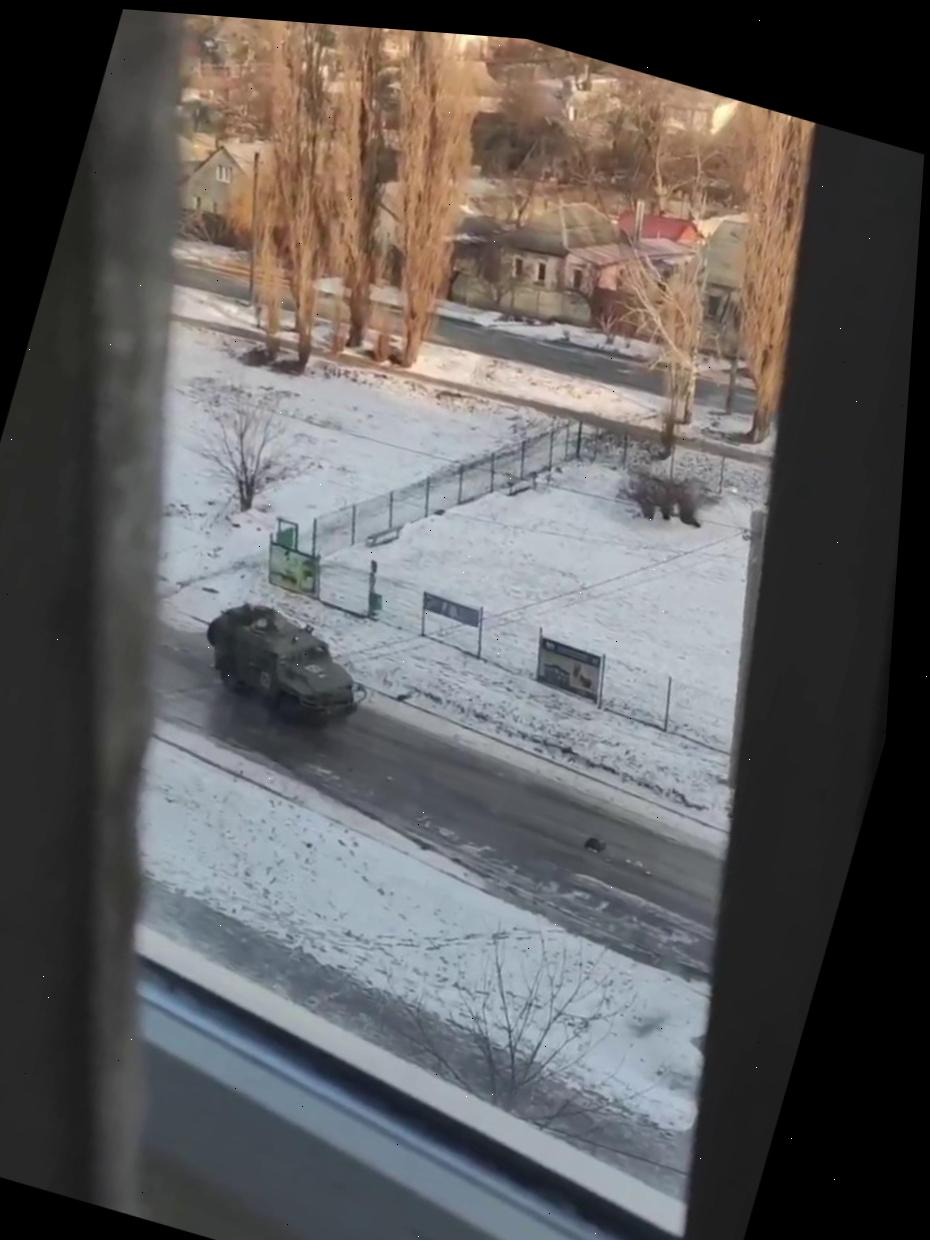armored_car: (187, 590, 383, 735)
